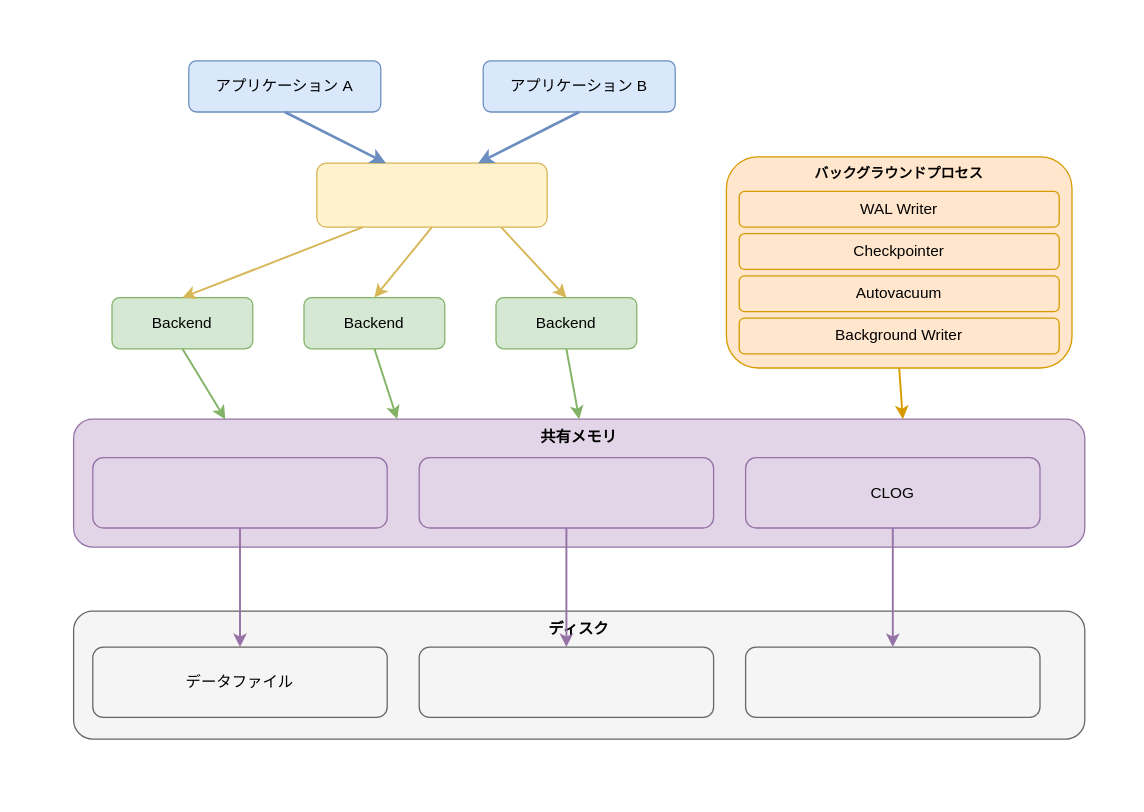
Some shapes in this 1144 by 812 pixel diagram are drawn without their labels. Here are the shapes that lost their labels. From the top down, the centre of each, then its label:
the point at 431,194: Postmaster (リスナプロセス)
the point at 239,492: 共有バッファ
the point at 566,492: WAL バッファ
the point at 566,681: WAL ファイル
the point at 892,681: pg_xact
